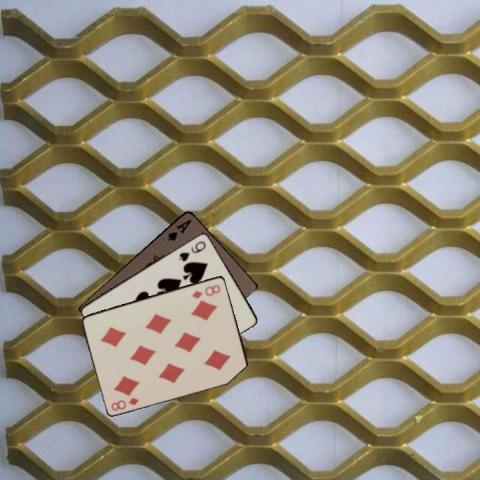8d: (189, 282, 222, 300), (108, 394, 141, 412)
9s: (176, 237, 207, 263)
As: (164, 216, 192, 242)
